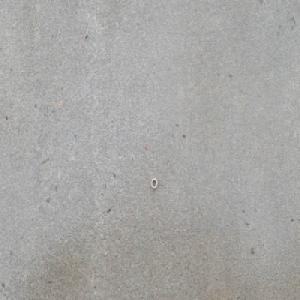Nut: (151, 177, 158, 190)
